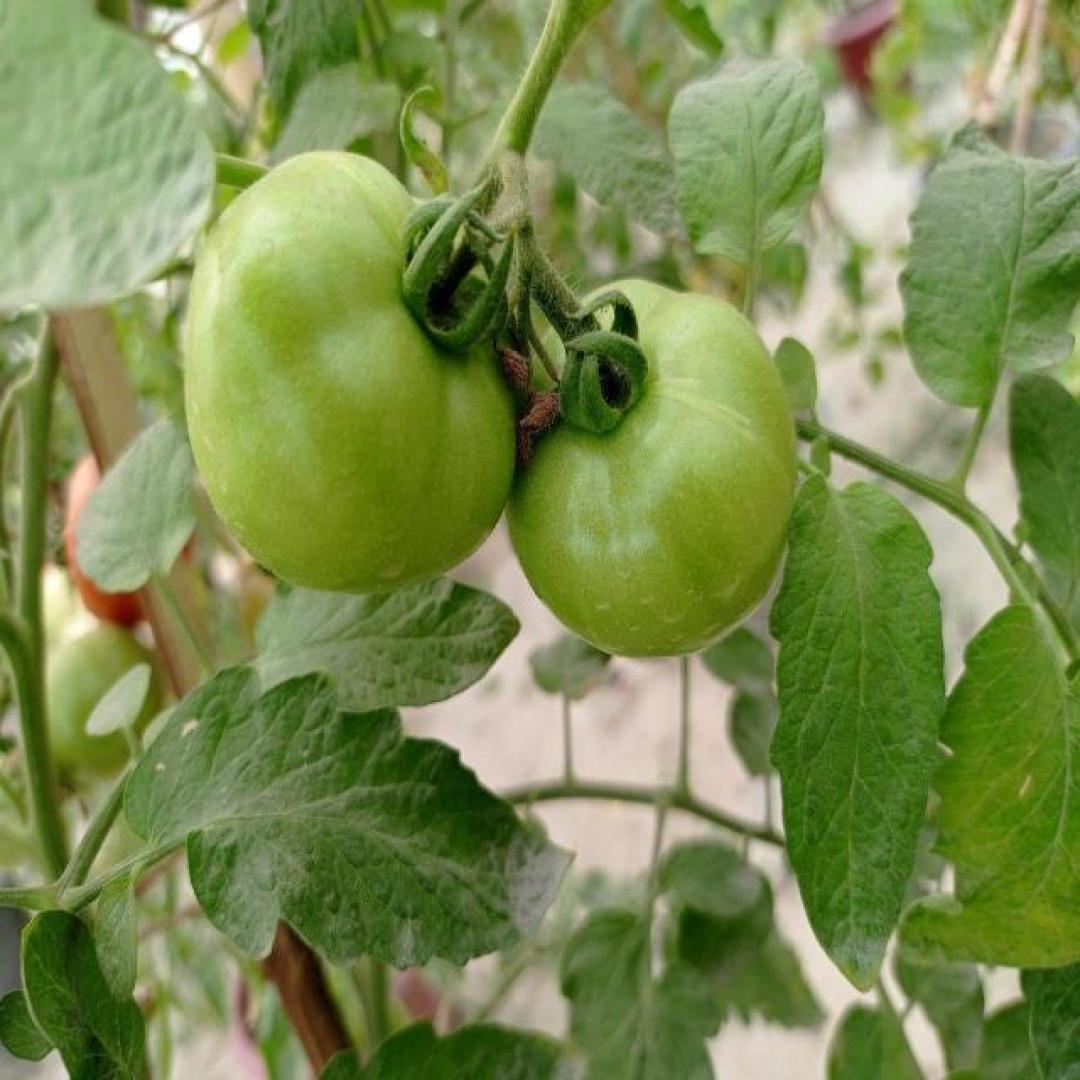mentah: (182, 150, 520, 587), (498, 280, 798, 660)
